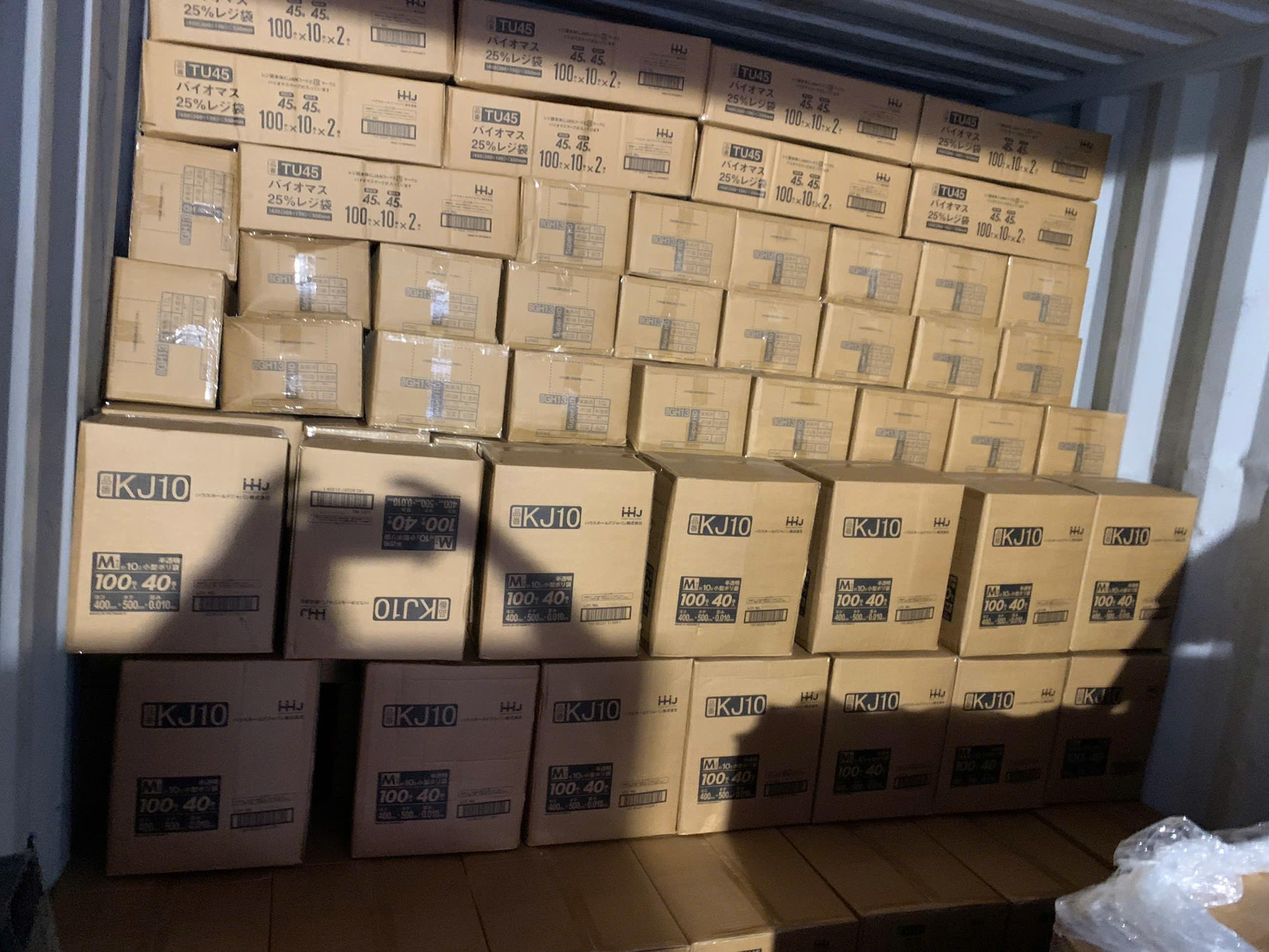carton: (69, 415, 294, 648), (106, 660, 319, 876), (284, 431, 473, 662), (138, 40, 449, 173), (474, 441, 657, 657), (639, 449, 821, 657), (350, 663, 538, 858), (239, 145, 526, 260), (787, 463, 966, 647), (928, 480, 1100, 658), (443, 79, 699, 198), (453, 4, 711, 122), (539, 660, 693, 843), (686, 653, 828, 837), (693, 119, 911, 233), (1053, 482, 1200, 649), (714, 47, 922, 164), (146, 0, 451, 79), (811, 650, 939, 822), (936, 652, 1070, 814), (920, 94, 1120, 201), (101, 255, 231, 412), (1047, 648, 1172, 802), (917, 169, 1104, 262), (126, 134, 242, 279), (364, 332, 502, 441), (219, 317, 365, 419), (236, 230, 371, 329), (372, 242, 502, 344), (505, 349, 622, 446), (502, 261, 612, 353), (629, 364, 734, 455), (728, 209, 827, 300), (625, 194, 721, 286), (717, 288, 818, 375), (942, 397, 1050, 477), (741, 376, 840, 460), (614, 275, 710, 361), (997, 256, 1097, 335), (913, 241, 1007, 324), (906, 315, 1001, 397), (992, 326, 1086, 408), (846, 387, 947, 463), (823, 226, 913, 311), (1030, 403, 1130, 479), (812, 301, 903, 384)
